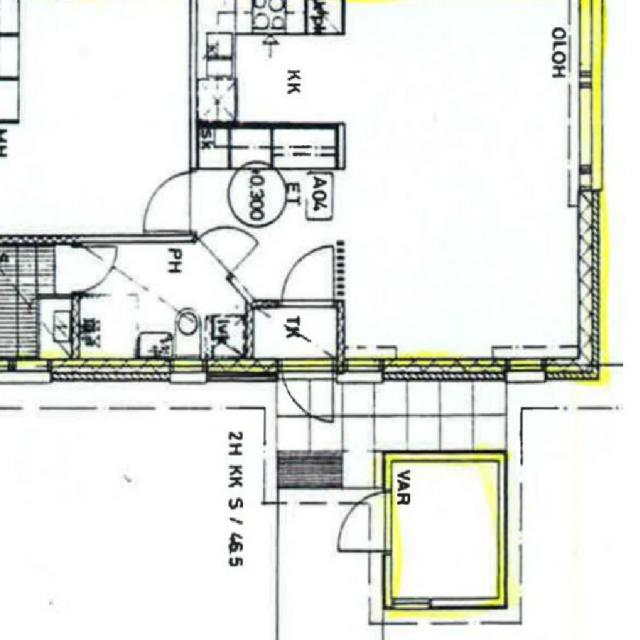door: (194, 206, 260, 276), (283, 358, 333, 436), (330, 492, 392, 551), (136, 173, 197, 231), (282, 243, 334, 308), (72, 246, 120, 292)
